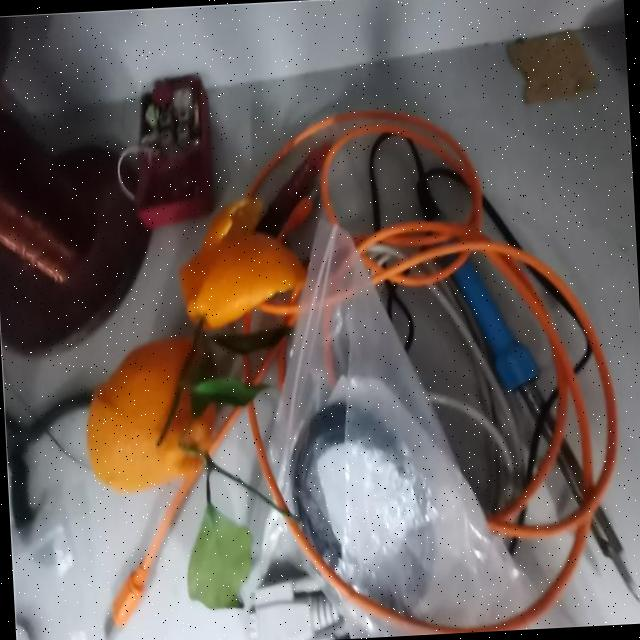orange-peel: (80, 332, 222, 494)
